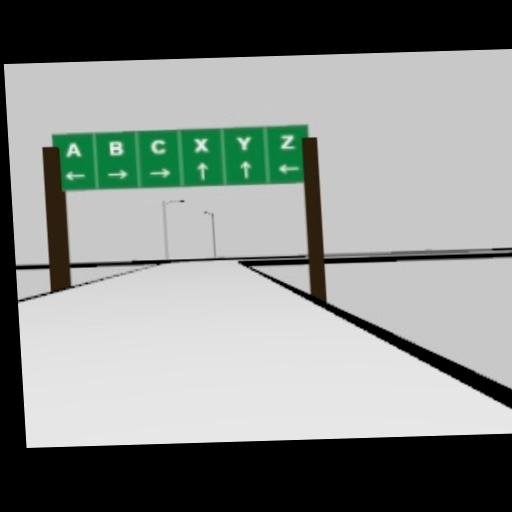A: (65, 143, 82, 159)
B: (108, 140, 124, 156)
C: (148, 139, 166, 154)
Left: (276, 163, 299, 174), (64, 170, 85, 180)
Right: (148, 167, 171, 178), (106, 169, 129, 179)
Straight: (239, 159, 252, 179), (195, 161, 208, 180)
X: (192, 137, 210, 154)
Y: (236, 135, 254, 153)
Z: (278, 133, 298, 151)
